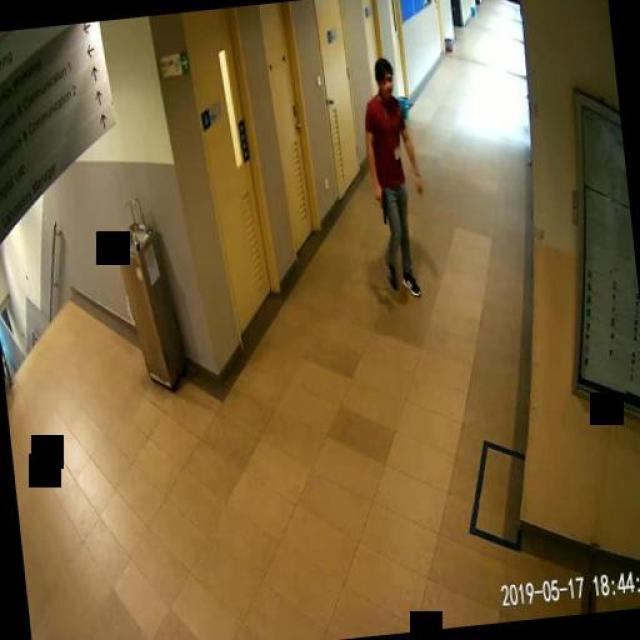gun: (372, 186, 386, 224)
